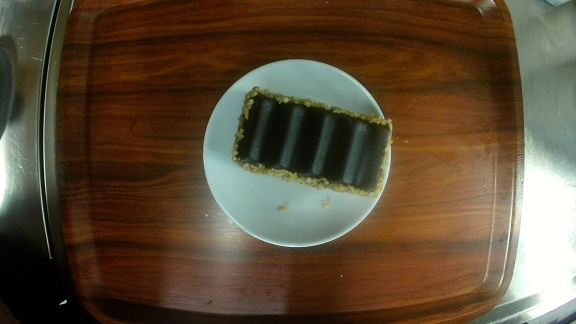muzlupasta: (204, 58, 393, 248)
